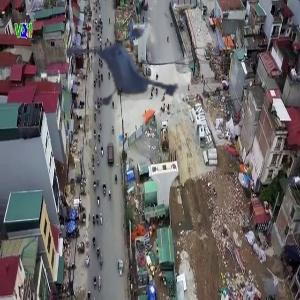drone: (77, 5, 207, 135)
